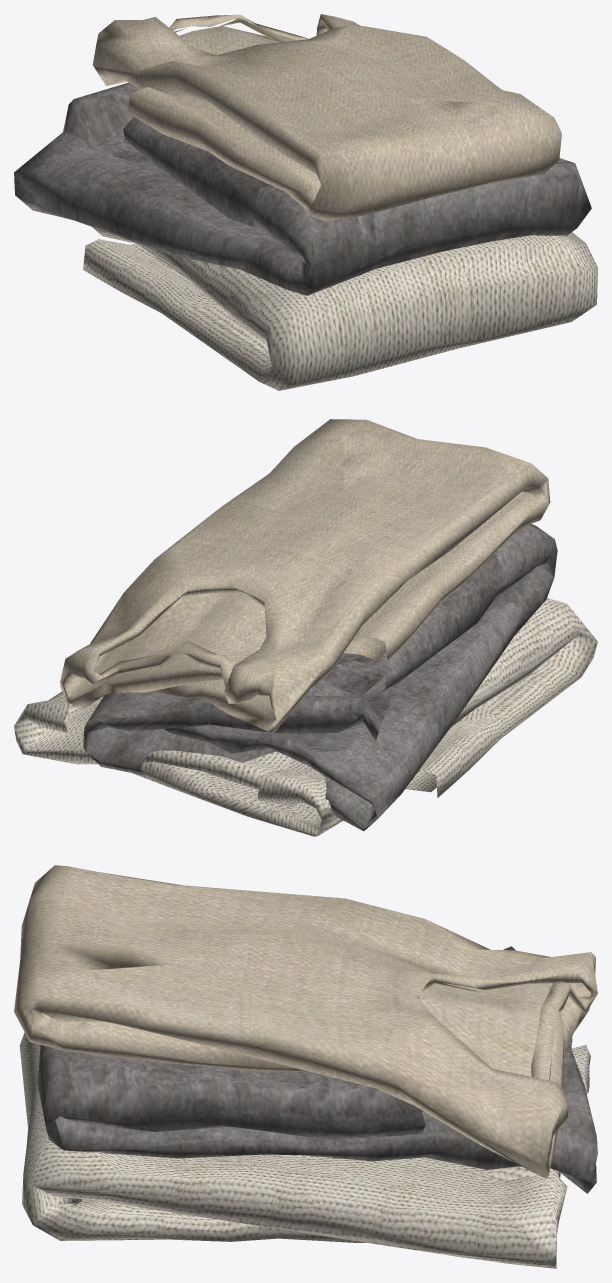
Rendered from hvfold_Clothes_27.glb.
3 views of the same model, one above another, from view 1: azimuth 30°, elevation 25°; view 2: azimuth 150°, elevation 25°; view 3: azimuth 270°, elevation 25° (orthographic). The views are drawn at different scales.
Visible parts, largest first — view 1: BP_Clothes_27; view 2: BP_Clothes_27; view 3: BP_Clothes_27.
Boxes of the visible parts, x1,y1,x2,y2 form: BP_Clothes_27: [14, 14, 597, 390]; BP_Clothes_27: [14, 419, 597, 836]; BP_Clothes_27: [14, 865, 597, 1268].
Size of the model in its own units: 0.3339 by 0.1825 by 0.397.
Materials: 3 (3 with a texture image).
